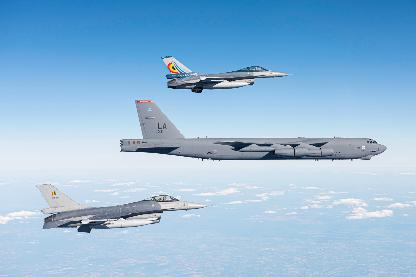B2: (119, 99, 386, 160)
F14: (36, 183, 212, 232), (161, 55, 293, 92)
